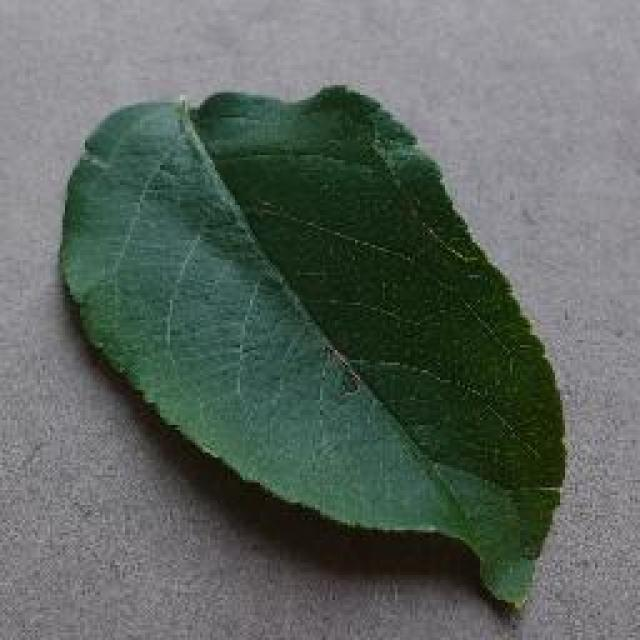apple scab disease: (55, 80, 567, 612)
